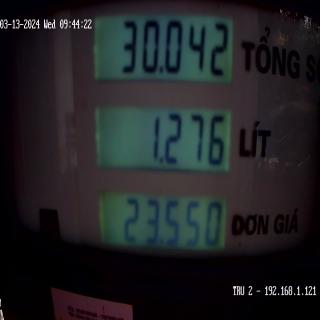screen: (90, 3, 238, 287)
